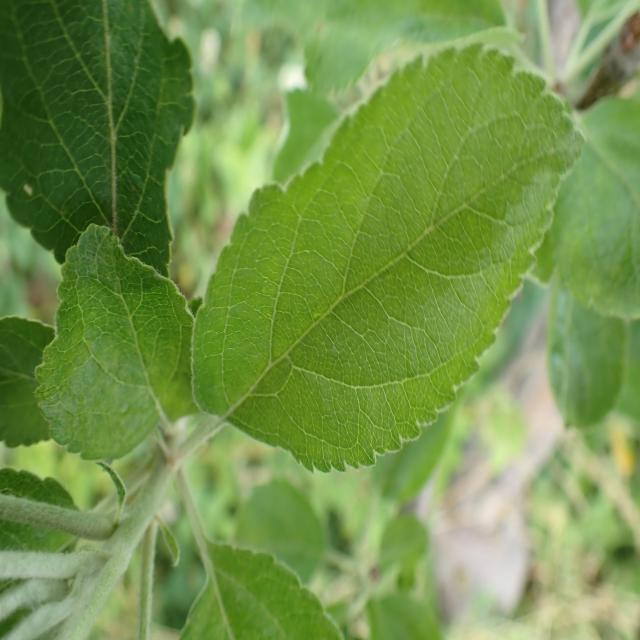healthy: (191, 42, 587, 474), (0, 0, 198, 278), (34, 223, 194, 464), (182, 535, 345, 640), (0, 315, 59, 448)
